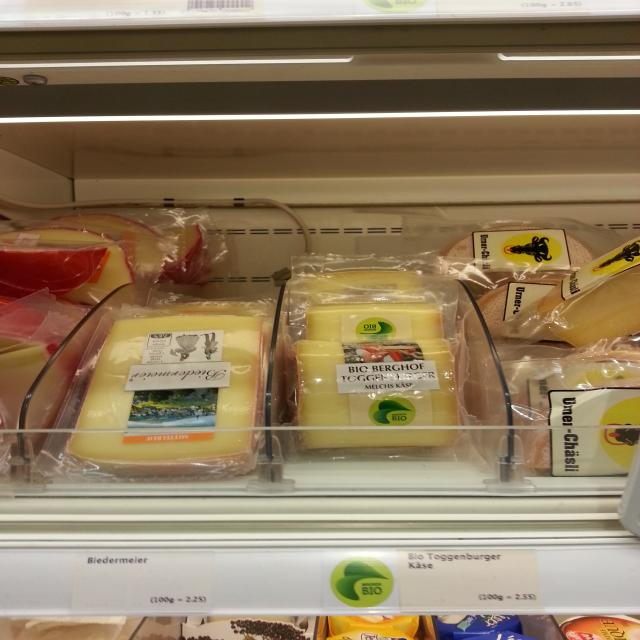Cheese: (59, 311, 269, 476), (286, 335, 482, 451), (504, 346, 640, 472), (532, 235, 640, 346), (0, 222, 131, 312), (438, 222, 599, 274)
